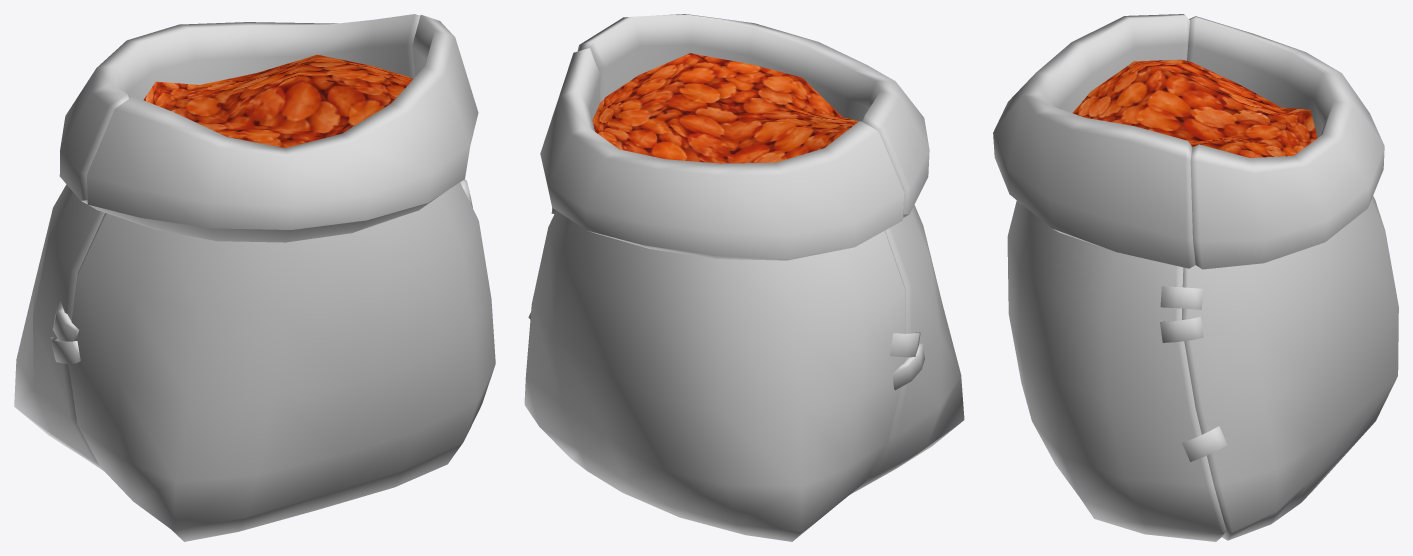
Rendered from SM_Sack_A01.fbx.
3 renders of one model, left to right at view 1: azimuth 30°, elevation 25°; view 2: azimuth 150°, elevation 25°; view 3: azimuth 270°, elevation 25°, orthographic. The views are drawn at different scales.
Visible parts, largest first — view 1: SM_Sack_A01; view 2: SM_Sack_A01; view 3: SM_Sack_A01.
Part boxes in pixels (<box>): SM_Sack_A01: <box>14,14,495,541</box>; SM_Sack_A01: <box>524,14,964,541</box>; SM_Sack_A01: <box>993,14,1398,541</box>.
Bounding box in the file's own units: 178 × 159 × 185.
